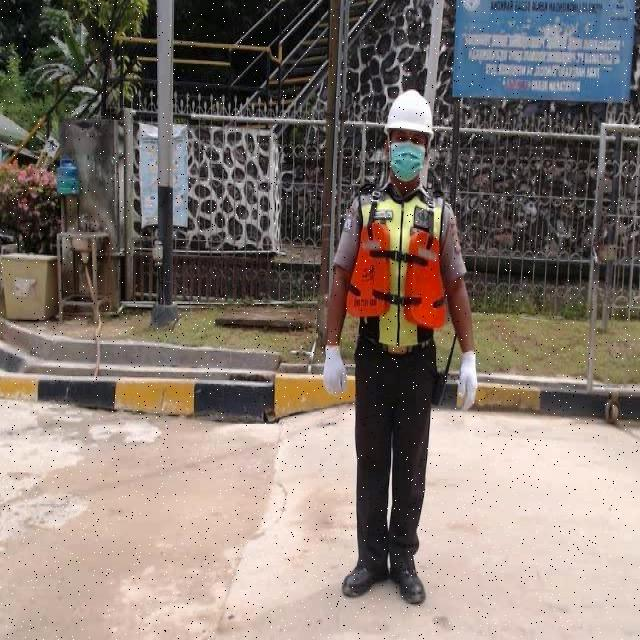Hard_hat: (382, 94, 440, 144)
Vest: (348, 190, 449, 349)
